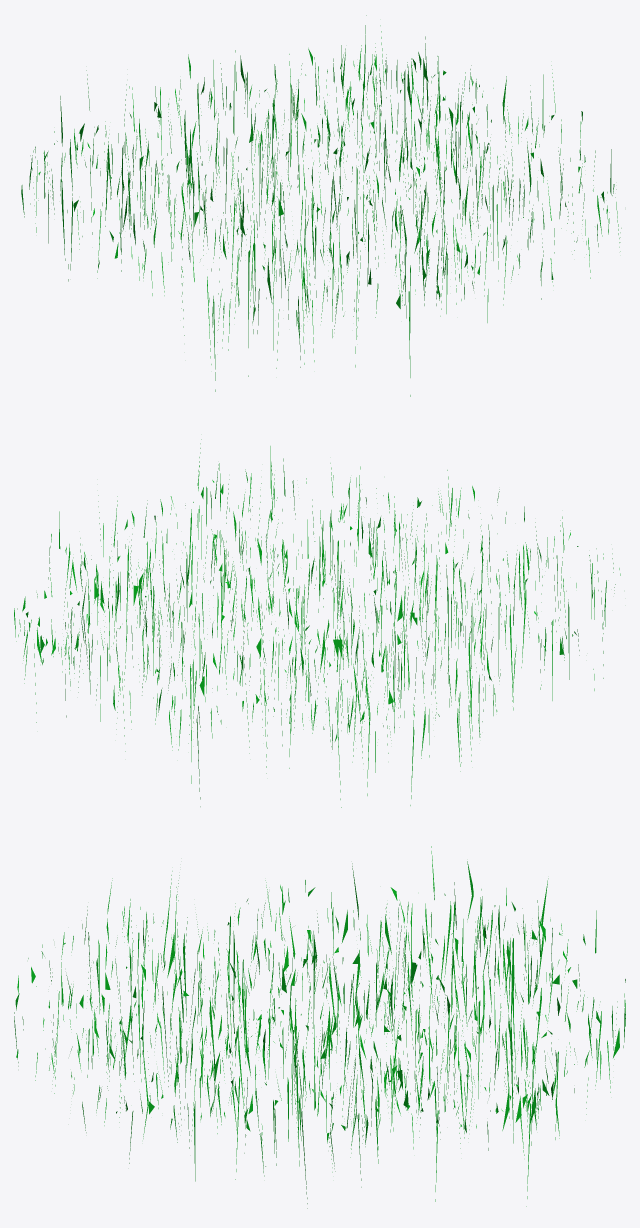
3 renders of one model, top to bottom at view 1: azimuth 30°, elevation 25°; view 2: azimuth 150°, elevation 25°; view 3: azimuth 270°, elevation 25°, orthographic. The views are drawn at different scales.
Parts seen in each view (by area): view 1: Cube.002_-_copy; view 2: Cube.002_-_copy; view 3: Cube.002_-_copy.
Boxes of the visible parts, <box> form: Cube.002_-_copy: <box>21,15,621,396</box>; Cube.002_-_copy: <box>14,439,620,807</box>; Cube.002_-_copy: <box>14,846,625,1208</box>.
Bounding box in the file's own units: 2 × 0.819 × 1.94.
